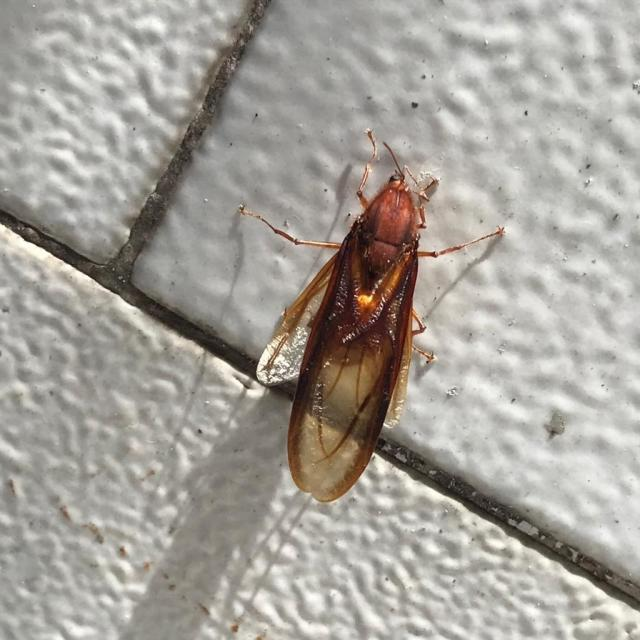Alive-Male-Alate: (238, 128, 507, 504)
